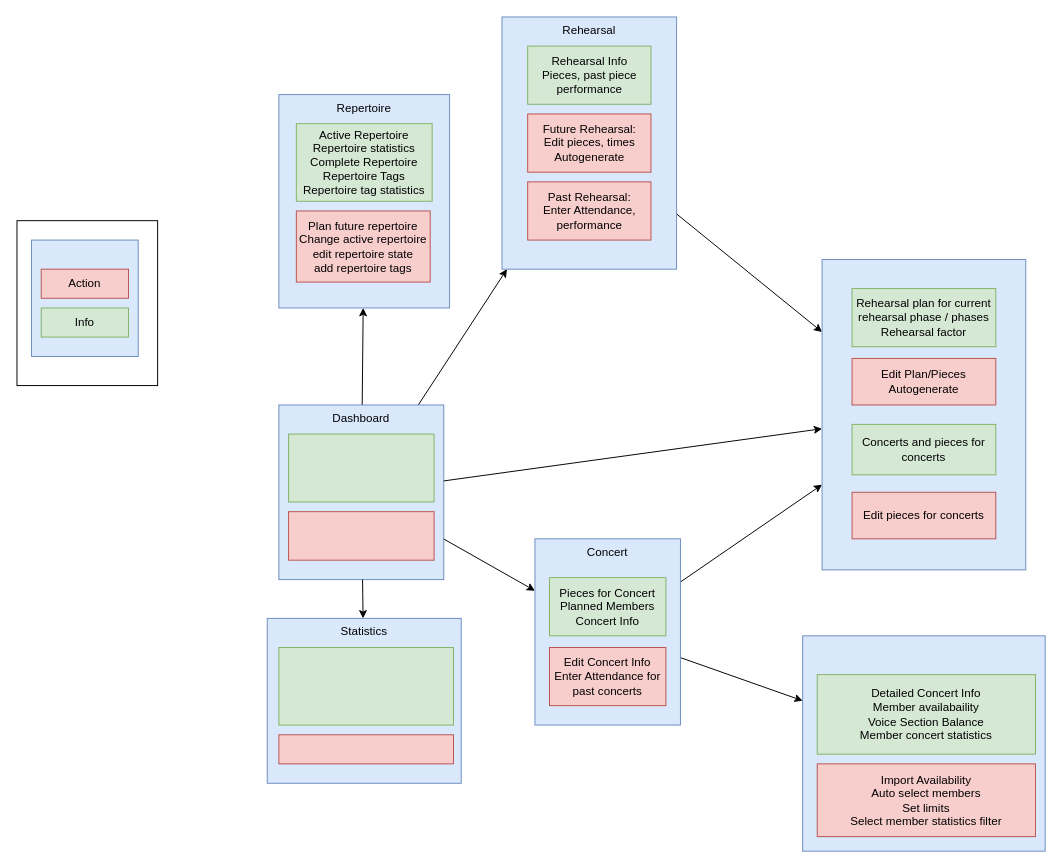
The diagram is 1062 pixels wide and 868 high, and some of its shapes have lost their labels. The shapes that lost their labels are listed below. From the top down, each one's box as (x1, y1, x2, y2) in pixels, then its label:
(31, 239, 138, 356): Page
(821, 259, 1026, 570): Long Term Planner
(288, 433, 434, 502): Next Concert Next Rehearsal Attendance Statistics Repertoire State
(288, 511, 434, 560): Enter last rehearsal data (attendance, performance) Enter last concert data
(278, 647, 453, 725): Choir statistics Rehearsal Attendance Concerts Repertoire
(278, 734, 453, 764): Set timeframe
(802, 635, 1045, 851): Concert Assistent
